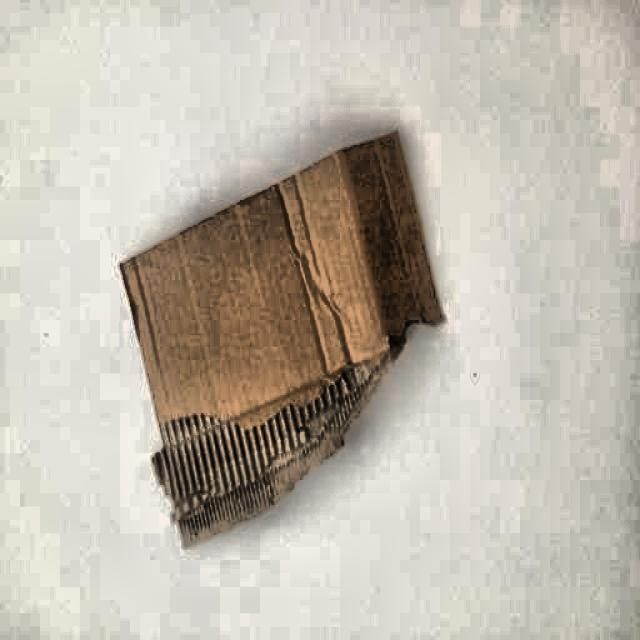cardboard: (118, 125, 444, 540)
